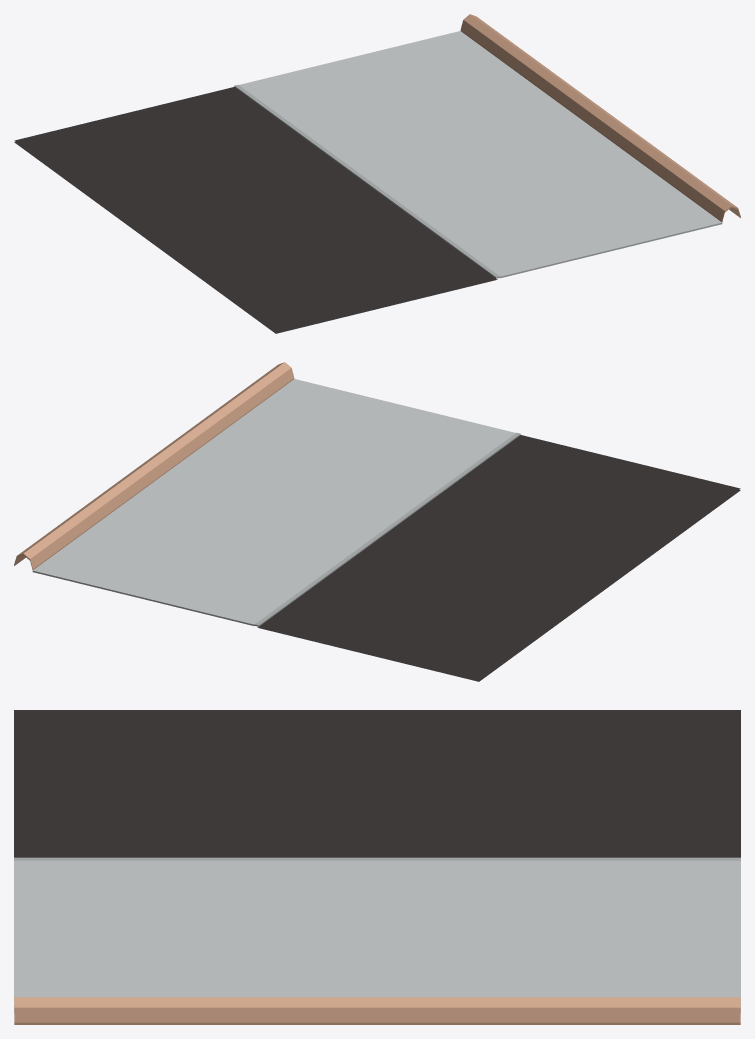
Rendered from Rua.fbx.
3 renders of one model, top to bottom at view 1: azimuth 30°, elevation 25°; view 2: azimuth 150°, elevation 25°; view 3: azimuth 270°, elevation 25°, orthographic. The views are drawn at different scales.
Parts seen in each view (by area): view 1: Rua; view 2: Rua; view 3: Rua.
Part boxes in pixels (x1,y1,x2,y2): Rua: (14, 14, 740, 333); Rua: (14, 362, 740, 681); Rua: (14, 710, 740, 1024).
Bounding box in the file's own units: 1337 × 46.65 × 1304.
